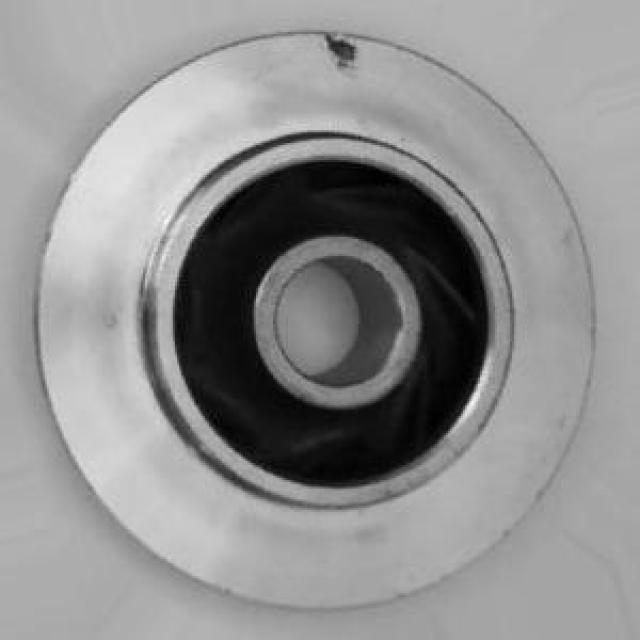Defect: (321, 28, 369, 85)
